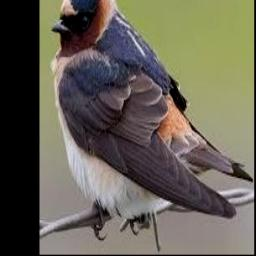Swallow: (50, 0, 253, 221)
